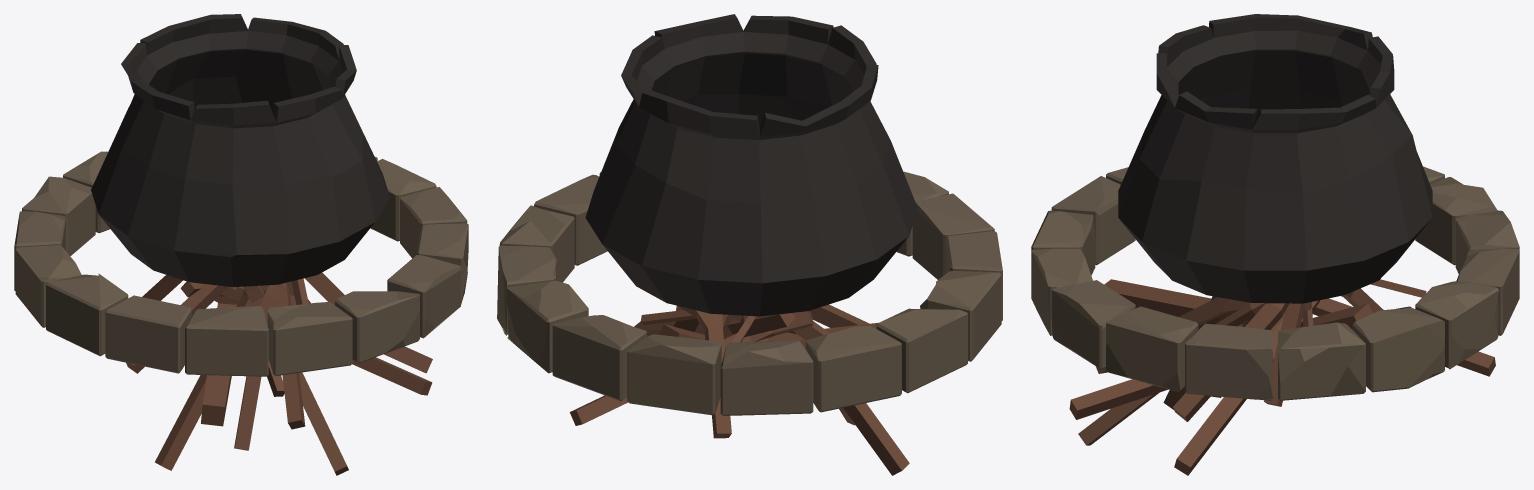
The model's file is cauldron.glb.
The picture shows the model from 3 angles, left to right: view 1: azimuth 30°, elevation 25°; view 2: azimuth 150°, elevation 25°; view 3: azimuth 270°, elevation 25°; orthographic projection. The views are drawn at different scales.
Visible parts, largest first — view 1: Cauldron, Stone Fence for Cauldron.001, Firewood_Var.015, Firewood_Var.016, Firewood_Var.014, Firewood_Var.002, Firewood_Var.005, Firewood_Var.009, Firewood_Var.004, Firewood_Var.003, Firewood_Var.013, Firewood_Var.010; view 2: Cauldron, Stone Fence for Cauldron.001, Firewood_Var.015, Firewood_Var.001, Firewood_Var.003, Firewood_Var.010, Firewood_Var.005, Firewood_Var.009, Firewood_Var.006; view 3: Cauldron, Stone Fence for Cauldron.001, Firewood_Var.005, Firewood_Var.003, Firewood_Var.002, Firewood_Var.013, Firewood_Var.014, Firewood_Var.009, Firewood_Var.001, Firewood_Var.008, Firewood_Var.012.
Boxes of the visible parts, left/top/right/bottom form: Cauldron: left=91, top=14, right=390, bottom=287; Stone Fence for Cauldron.001: left=14, top=151, right=468, bottom=376; Firewood_Var.015: left=155, top=285, right=268, bottom=470; Firewood_Var.016: left=234, top=283, right=283, bottom=450; Firewood_Var.014: left=229, top=286, right=348, bottom=475; Firewood_Var.002: left=214, top=296, right=432, bottom=395; Firewood_Var.005: left=201, top=303, right=236, bottom=426; Firewood_Var.009: left=275, top=282, right=305, bottom=429; Firewood_Var.004: left=126, top=284, right=228, bottom=373; Firewood_Var.003: left=290, top=295, right=432, bottom=373; Firewood_Var.013: left=304, top=272, right=344, bottom=304; Firewood_Var.010: left=142, top=275, right=182, bottom=300; Cauldron: left=585, top=14, right=917, bottom=316; Stone Fence for Cauldron.001: left=497, top=171, right=1002, bottom=415; Firewood_Var.015: left=788, top=331, right=909, bottom=475; Firewood_Var.001: left=569, top=311, right=813, bottom=425; Firewood_Var.003: left=634, top=313, right=795, bottom=337; Firewood_Var.010: left=679, top=306, right=731, bottom=438; Firewood_Var.005: left=659, top=322, right=878, bottom=349; Firewood_Var.009: left=802, top=304, right=868, bottom=327; Firewood_Var.006: left=640, top=310, right=696, bottom=325; Cauldron: left=1118, top=14, right=1432, bottom=303; Stone Fence for Cauldron.001: left=1031, top=166, right=1519, bottom=400; Firewood_Var.005: left=1104, top=279, right=1372, bottom=329; Firewood_Var.003: left=1174, top=300, right=1319, bottom=475; Firewood_Var.002: left=1069, top=313, right=1284, bottom=419; Firewood_Var.013: left=1173, top=303, right=1289, bottom=421; Firewood_Var.014: left=1078, top=316, right=1253, bottom=445; Firewood_Var.009: left=1096, top=297, right=1311, bottom=373; Firewood_Var.001: left=1312, top=298, right=1495, bottom=376; Firewood_Var.008: left=1264, top=303, right=1304, bottom=406; Firewood_Var.012: left=1215, top=303, right=1265, bottom=326.
Bounding box in the file's own units: 2.18 × 1.92 × 2.17.
